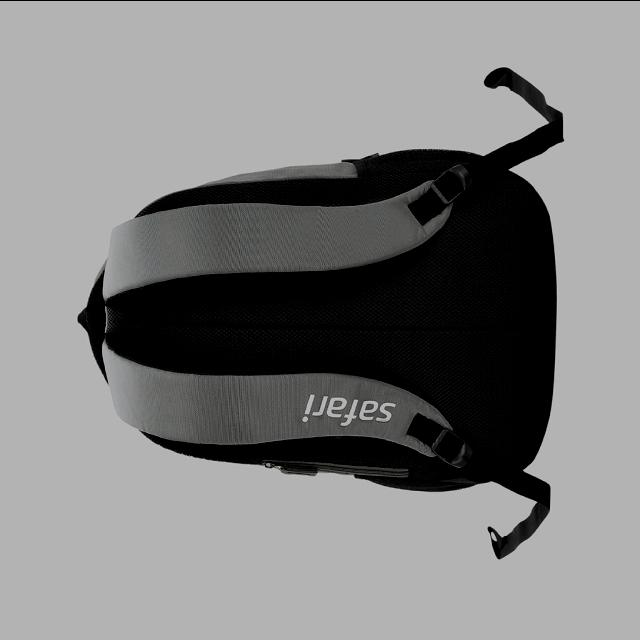backpack: (78, 68, 564, 559)
